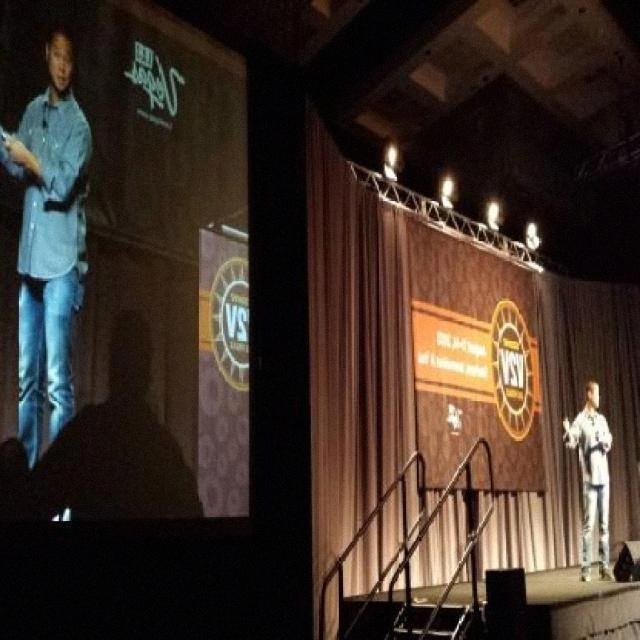stair: (384, 598, 484, 640)
